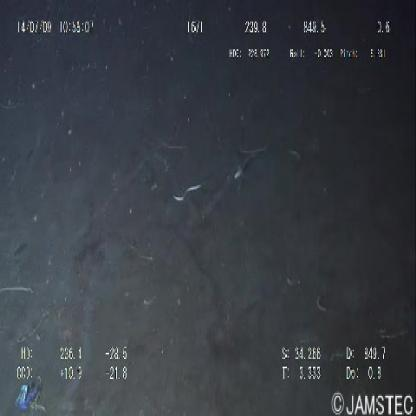Rác: (17, 376, 44, 412)
